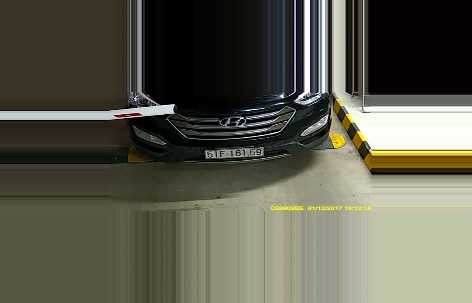plate: (204, 144, 264, 163)
